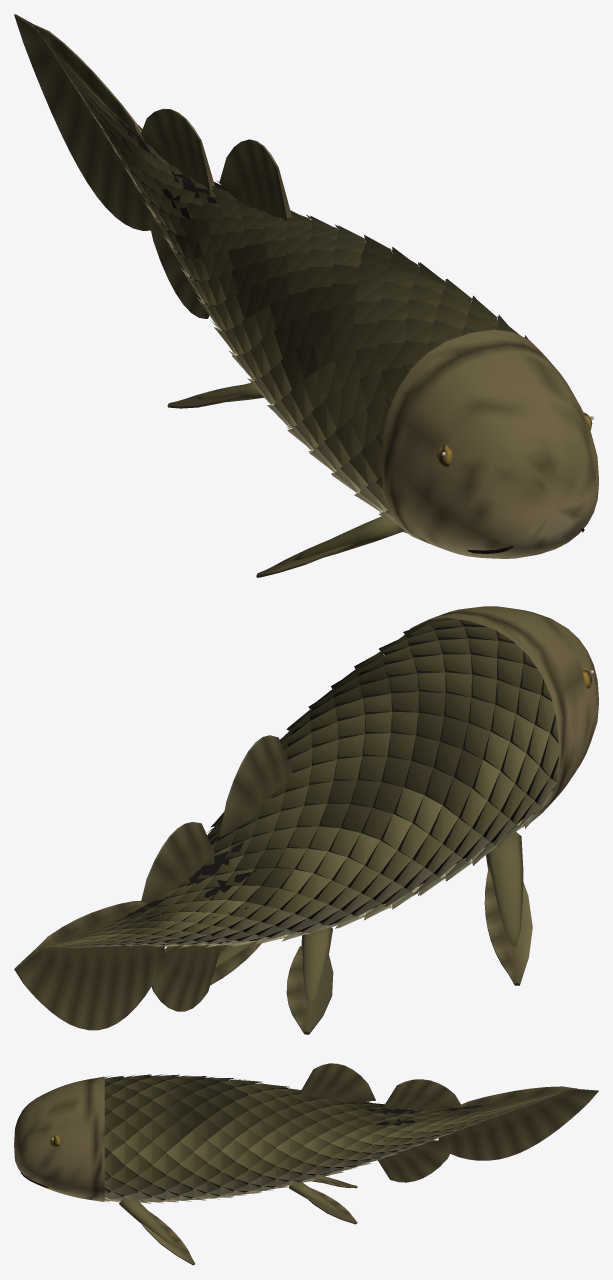
Rendered from Dipterus.fbx.
3 views of the same model, one above another, from view 1: azimuth 30°, elevation 25°; view 2: azimuth 150°, elevation 25°; view 3: azimuth 270°, elevation 25° (orthographic). The views are drawn at different scales.
Parts seen in each view (by area): view 1: Dipterus; view 2: Dipterus; view 3: Dipterus.
Part boxes in pixels (bbox=[...]): Dipterus: bbox=[14, 14, 598, 577]; Dipterus: bbox=[14, 606, 598, 1034]; Dipterus: bbox=[14, 1063, 598, 1265].
Size of the model in its own units: 0.4748 by 0.5307 by 1.68.
